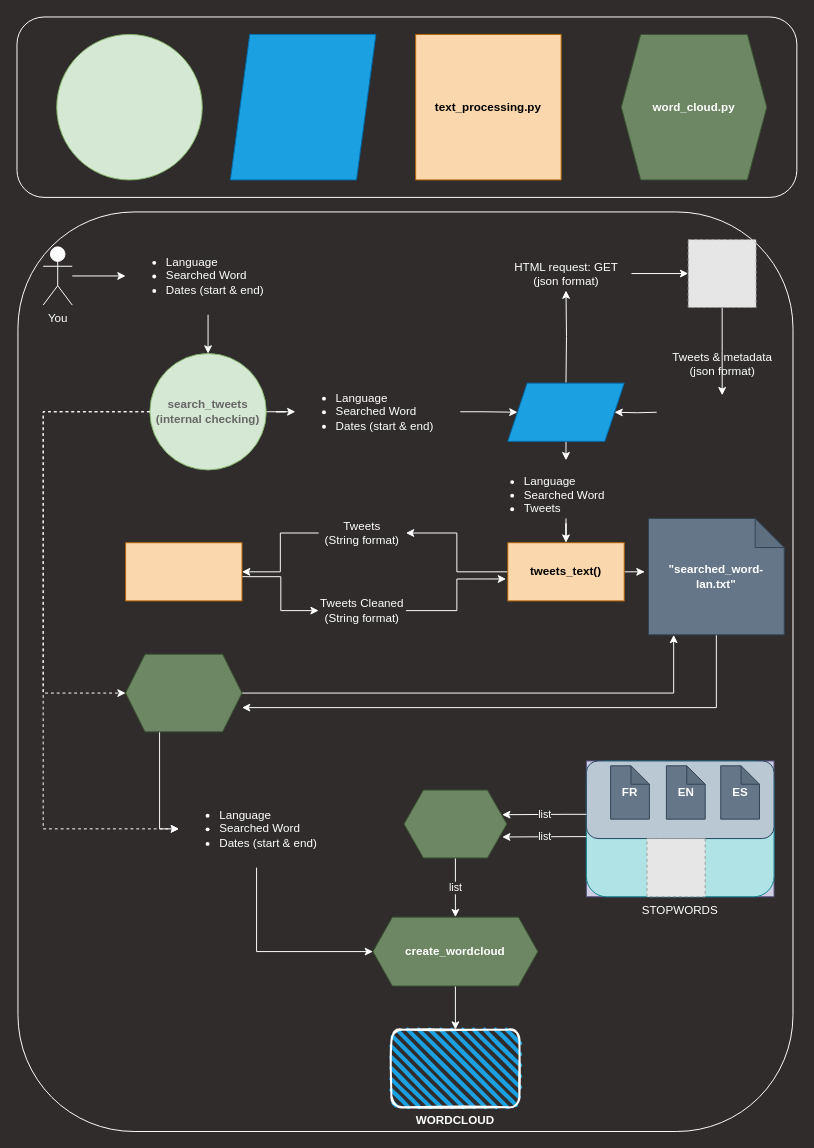
This 814x1148 diagram has some shape labels left out. Grey dashed boxes stand in for pictures. Each missing label, with the centre of its shape:
"get_stopwords()" goes at point (455, 823).
"get_text_tweets()" goes at point (183, 692).
"get_tweets()" goes at point (565, 411).
"tweet_to_words() (REGEX cleaning)" goes at point (183, 571).
"twitter.py" goes at point (302, 106).
"UI.py" goes at point (129, 106).
